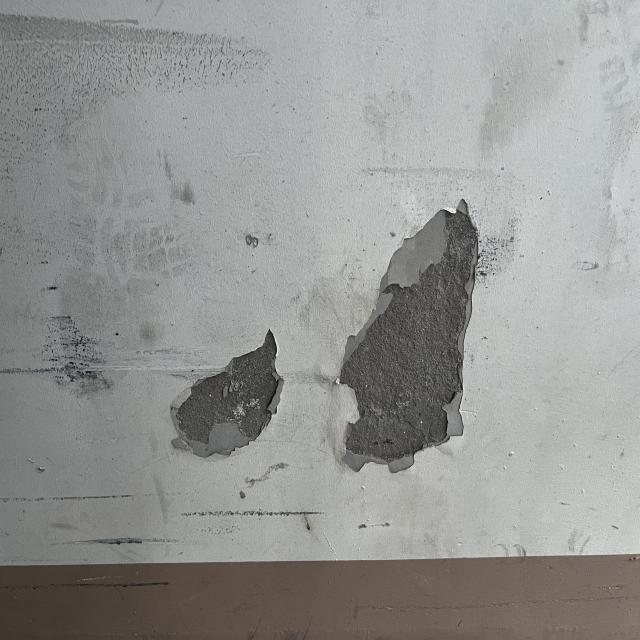spalling: (339, 188, 482, 480), (164, 334, 286, 472)
